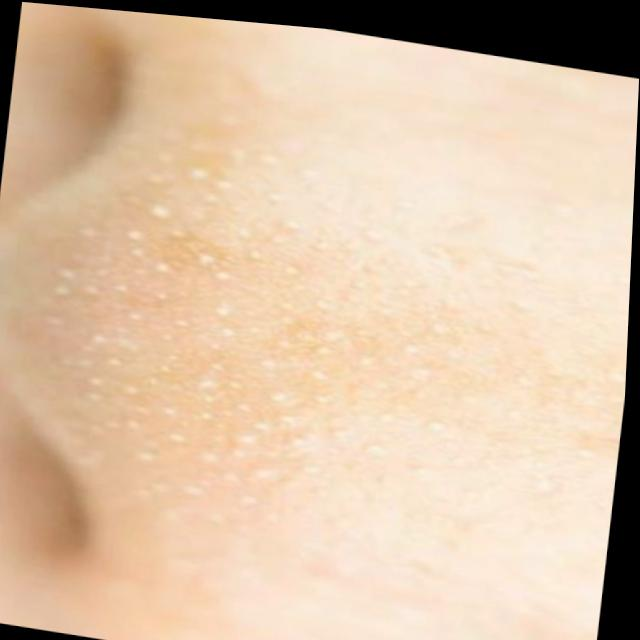whitehead: (0, 78, 462, 584)
